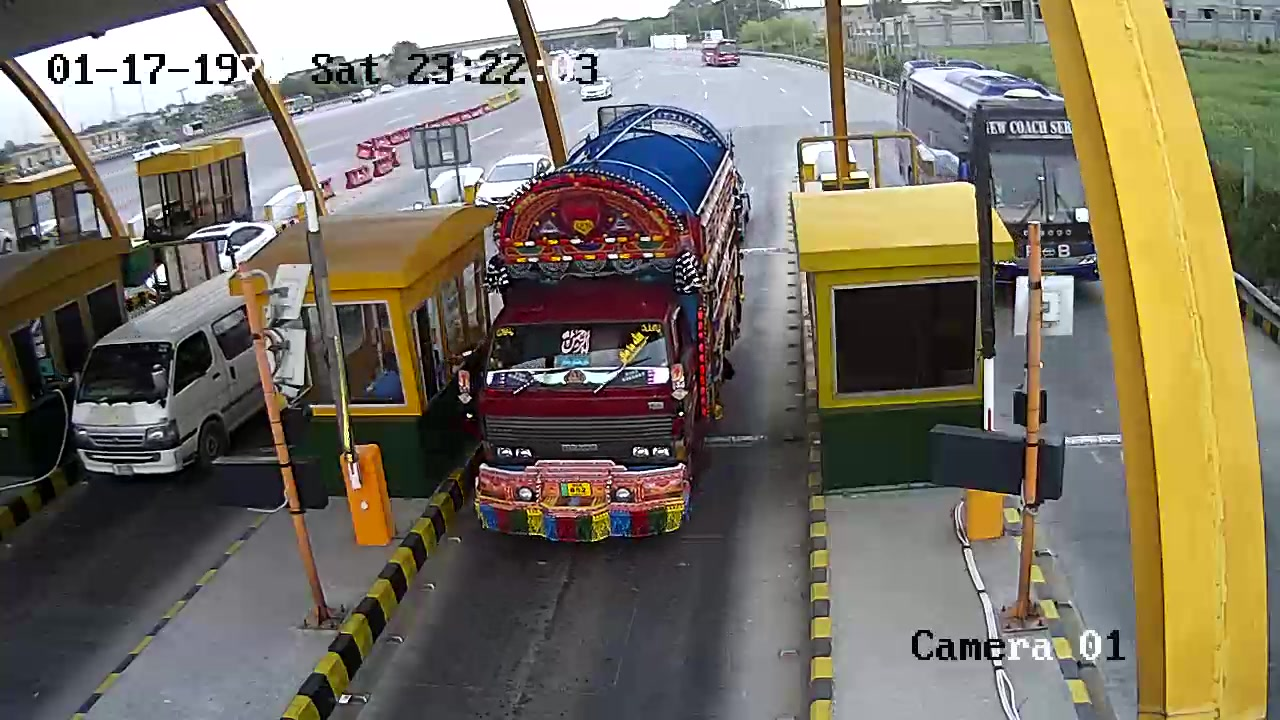F5: (456, 103, 754, 550)
